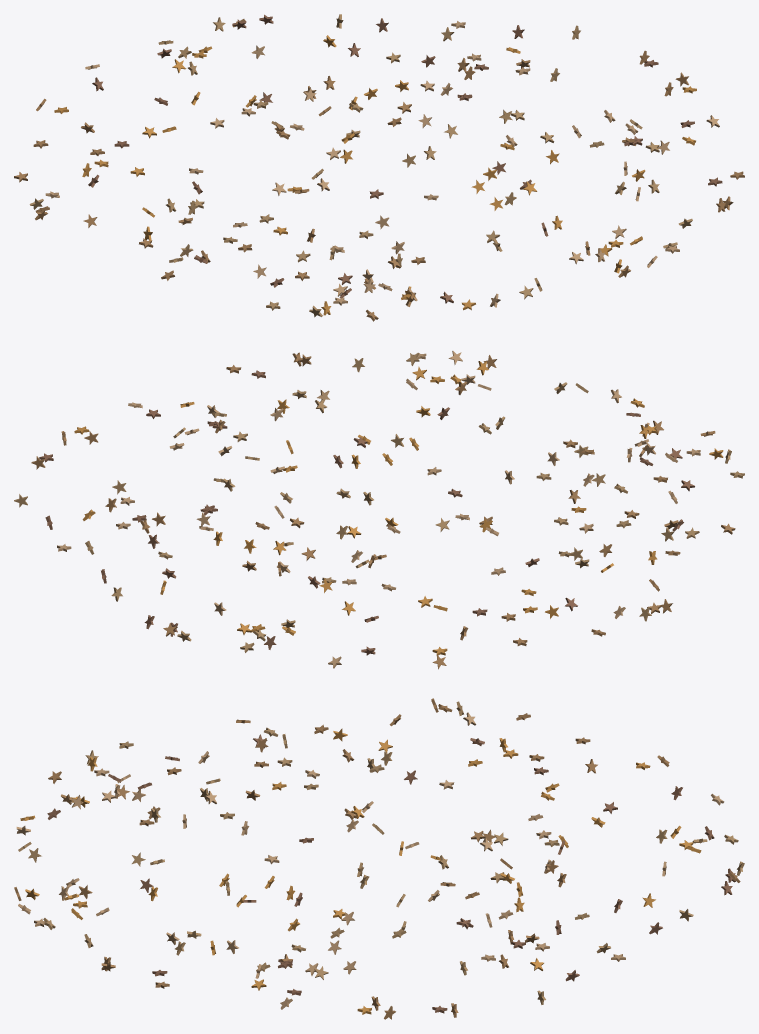
File: choco_round2.glb
3 views of the same model, one above another, from view 1: azimuth 30°, elevation 25°; view 2: azimuth 150°, elevation 25°; view 3: azimuth 270°, elevation 25° (orthographic).
Bounding box in the file's own units: 2.84 × 0.0579 × 2.8.
